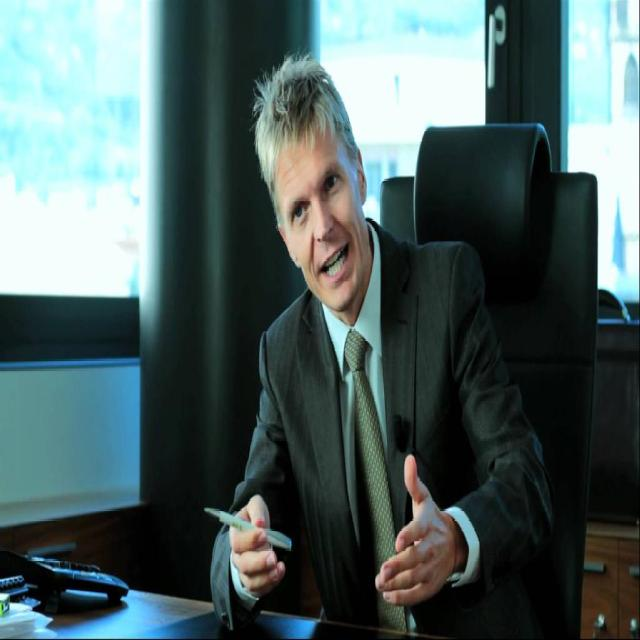Face: (271, 97, 375, 307)
